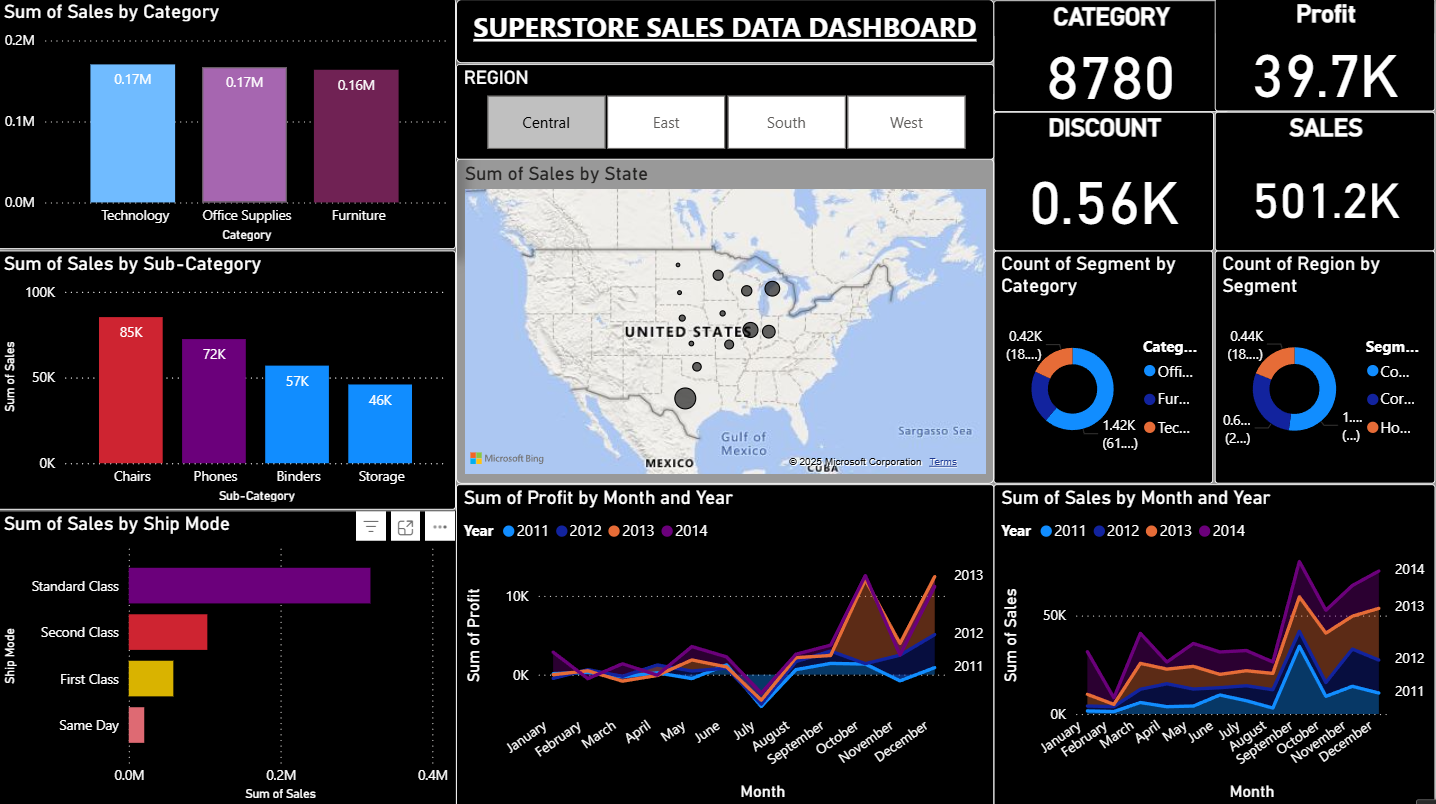

The page's visual inventory and layout, read from the dashboard file:
{"tool":"powerbi","page":{"name":"Page 1","canvas":[1280,720],"ordinal":0},"visuals":[{"type":"clusteredColumnChart","fields":{"Category":["Orders.Category"],"Y":["Sum(Orders.Sales)"]},"box":[0,0,408.6,223.3],"z":0},{"type":"stackedAreaChart","fields":{"Y":["Sum(Orders.Sales)"],"Series":["Orders.Order Date.Variation.Date Hierarchy.Year"],"Category":["Orders.Order Date.Variation.Date Hierarchy.Month"]},"box":[887.1,431.9,392.6,288.3],"z":1000},{"type":"stackedAreaChart","fields":{"Series":["Orders.Order Date.Variation.Date Hierarchy.Year"],"Y":["Sum(Orders.Profit)"],"Category":["Orders.Order Date.Variation.Date Hierarchy.Month"]},"box":[408.6,431.9,478.5,288.3],"z":2000},{"type":"columnChart","fields":{"Category":["Orders.Sub-Category"],"Y":["Sum(Orders.Sales)"]},"box":[0,224.5,408.6,230.7],"z":3000},{"type":"barChart","fields":{"Category":["Orders.Ship Mode"],"Y":["Sum(Orders.Sales)"]},"box":[0,455.2,408.6,265],"z":4000},{"type":"donutChart","fields":{"Category":["Orders.Category"],"Y":["CountNonNull(Orders.Segment)"]},"box":[887.1,224.5,195.1,207.4],"z":5000},{"type":"donutChart","fields":{"Y":["CountNonNull(Orders.Region)"],"Category":["Orders.Segment"]},"box":[1083.4,224.5,196.3,207.4],"z":6000},{"type":"card","title":"SALES","fields":{"Values":["Sum(Orders.Sales)"]},"box":[1083.4,100.6,196.3,123.9],"z":7000},{"type":"card","title":"CATEGORY","fields":{"Values":["Sum(Orders.Quantity)"]},"box":[887.1,2.5,208.6,99.4],"z":8000},{"type":"card","title":"Profit","fields":{"Values":["Sum(Orders.Profit)"]},"box":[1083.4,0,196.3,100.6],"z":9000},{"type":"card","title":"DISCOUNT","fields":{"Values":["Sum(Orders.Discount)"]},"box":[887.1,100.6,196.3,123.9],"z":10000},{"type":"map","fields":{"Category":["Orders.State"],"Size":["Sum(Orders.Sales)"]},"box":[408.6,142.3,478.5,289.6],"z":11000},{"type":"slicer","title":"REGION","fields":{"Values":["Orders.Region"]},"box":[408.6,58.9,478.5,84.7],"z":12000},{"type":"textbox","box":[408.6,1.2,478.5,56.4],"z":12001}]}

Visuals, with their boxes in screenshot pixels (x1, y1, x2, y2), scaled from the page's 1280x720 canvas onto the 1436x804 screenshot:
clusteredColumnChart - Orders.Category x Sum(Orders.Sales): box(0, 0, 458, 249)
stackedAreaChart - Sum(Orders.Sales) x Orders.Order Date.Variation.Date Hierarchy.Year: box(995, 482, 1435, 803)
stackedAreaChart - Orders.Order Date.Variation.Date Hierarchy.Year x Sum(Orders.Profit): box(458, 482, 995, 803)
columnChart - Orders.Sub-Category x Sum(Orders.Sales): box(0, 251, 458, 508)
barChart - Orders.Ship Mode x Sum(Orders.Sales): box(0, 508, 458, 803)
donutChart - Orders.Category x CountNonNull(Orders.Segment): box(995, 251, 1214, 482)
donutChart - CountNonNull(Orders.Region) x Orders.Segment: box(1215, 251, 1435, 482)
"SALES" card: box(1215, 112, 1435, 251)
"CATEGORY" card: box(995, 3, 1229, 114)
"Profit" card: box(1215, 0, 1435, 112)
"DISCOUNT" card: box(995, 112, 1215, 251)
map - Orders.State x Sum(Orders.Sales): box(458, 159, 995, 482)
"REGION" slicer: box(458, 66, 995, 160)
textbox: box(458, 1, 995, 64)
